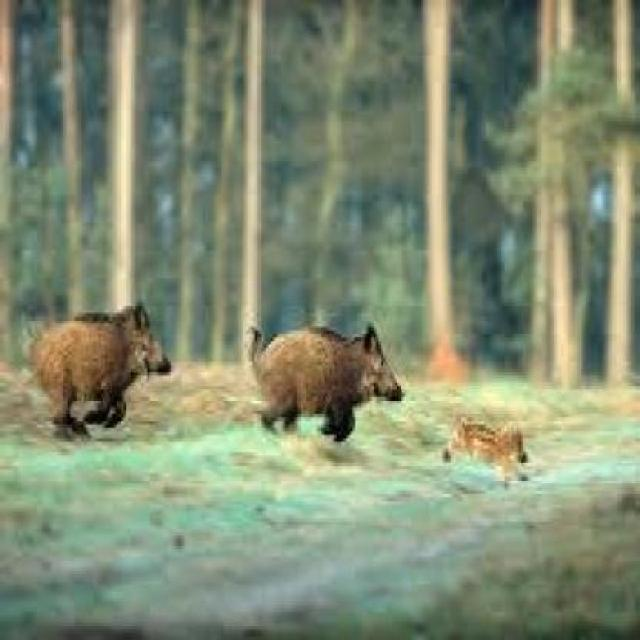wildboar: (20, 296, 178, 455), (240, 312, 408, 452), (438, 406, 536, 486)
